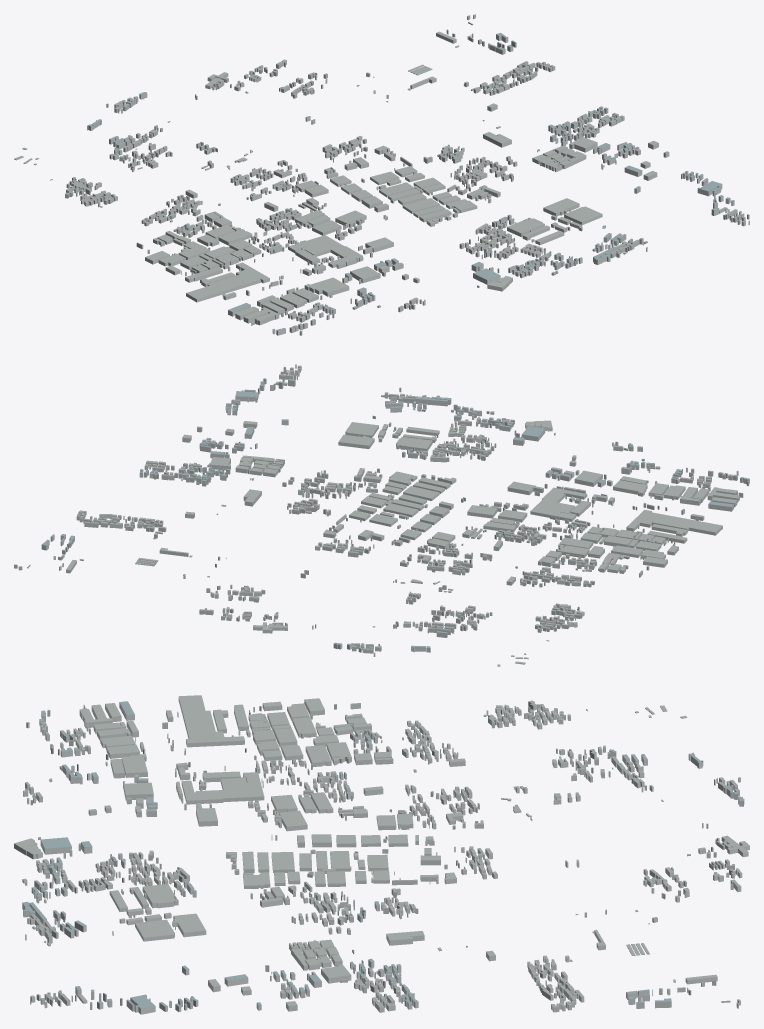
3 views of the same model, one above another, from view 1: azimuth 30°, elevation 25°; view 2: azimuth 150°, elevation 25°; view 3: azimuth 270°, elevation 25° (orthographic). The views are drawn at different scales.
Parts seen in each view (by area): view 1: 上海全域建筑分块 · mapped building neighborhood; view 2: 上海全域建筑分块 · mapped building neighborhood; view 3: 上海全域建筑分块 · mapped building neighborhood.
Boxes of the visible parts, x1,y1,x2,y2 form: 上海全域建筑分块 · mapped building neighborhood: (14,14,749,335); 上海全域建筑分块 · mapped building neighborhood: (14,364,749,666); 上海全域建筑分块 · mapped building neighborhood: (14,695,749,1014).
Bounding box in the file's own units: 2171 × 25.41 × 2140.
